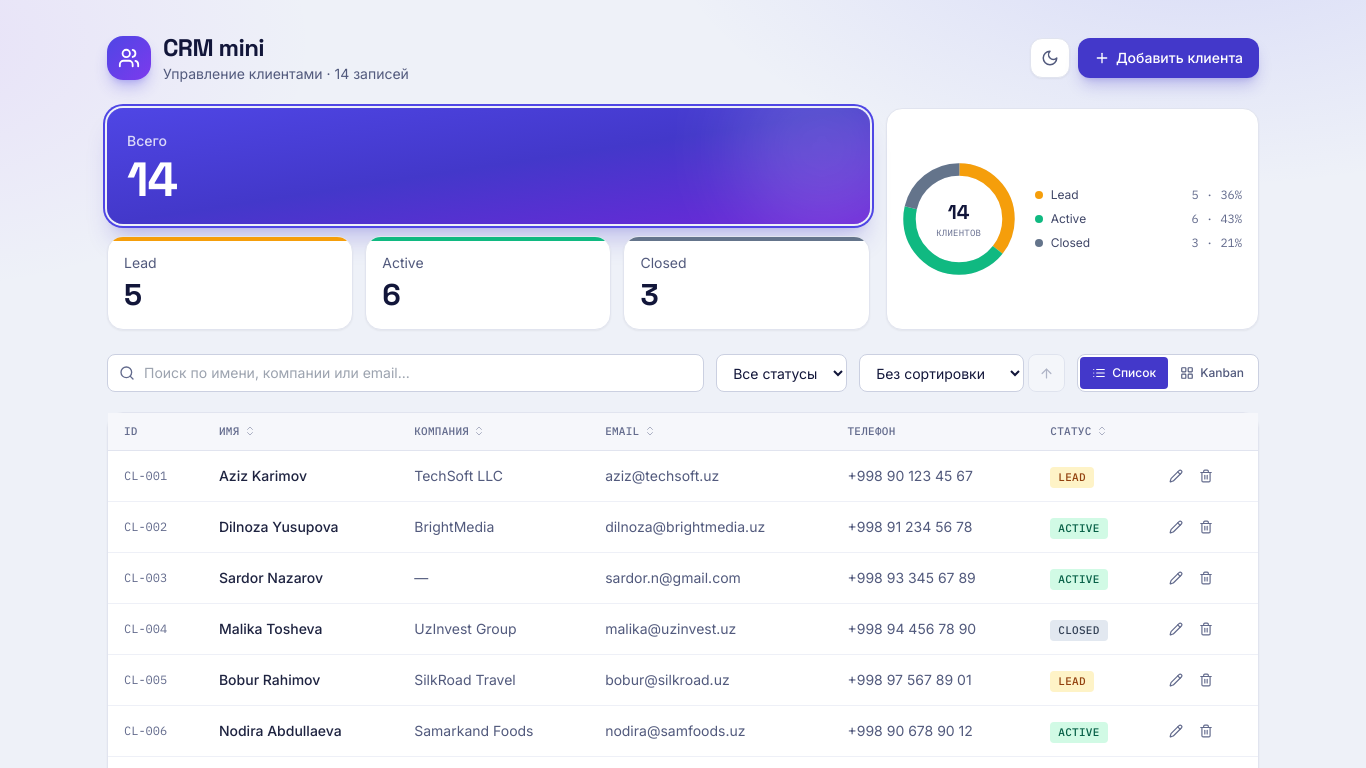
sorting › sorts via the select (used on mobile) and toggles direction
This screenshot has width=1366, height=768.
Expected: the button named "По возрастанию" is disabled, [1028, 354, 1065, 392]
Select "Дата добавления" in the dropdown named "Сортировка" at {"x": 942, "y": 373}, box [859, 354, 1024, 392]
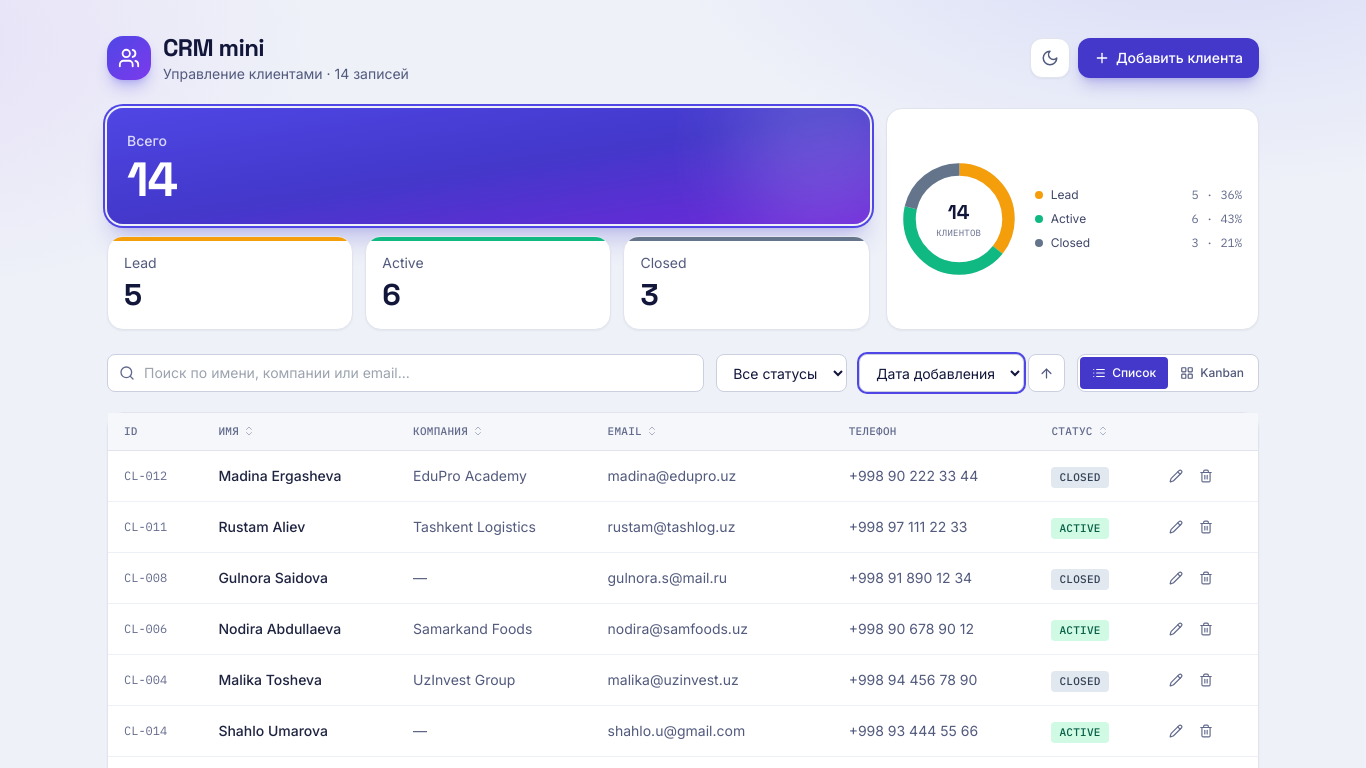
Now the cell "Madina Ergasheva" is shown, box [202, 450, 397, 501]
Click the button named "По возрастанию" at {"x": 1047, "y": 373}, box [1028, 354, 1065, 392]
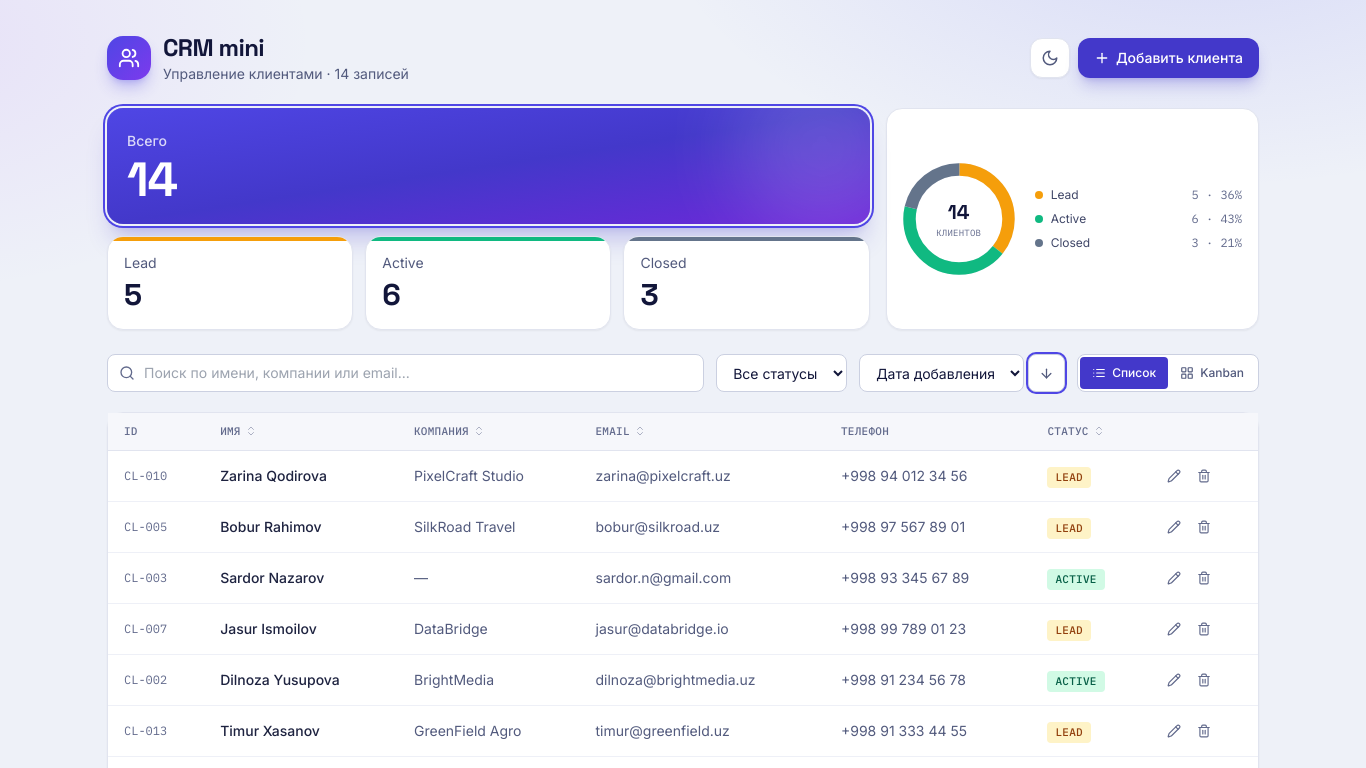
Now the button named "По убыванию" is enabled, box [1028, 354, 1065, 392]
Now the cell "Zarina Qodirova" is shown, box [204, 450, 398, 501]
